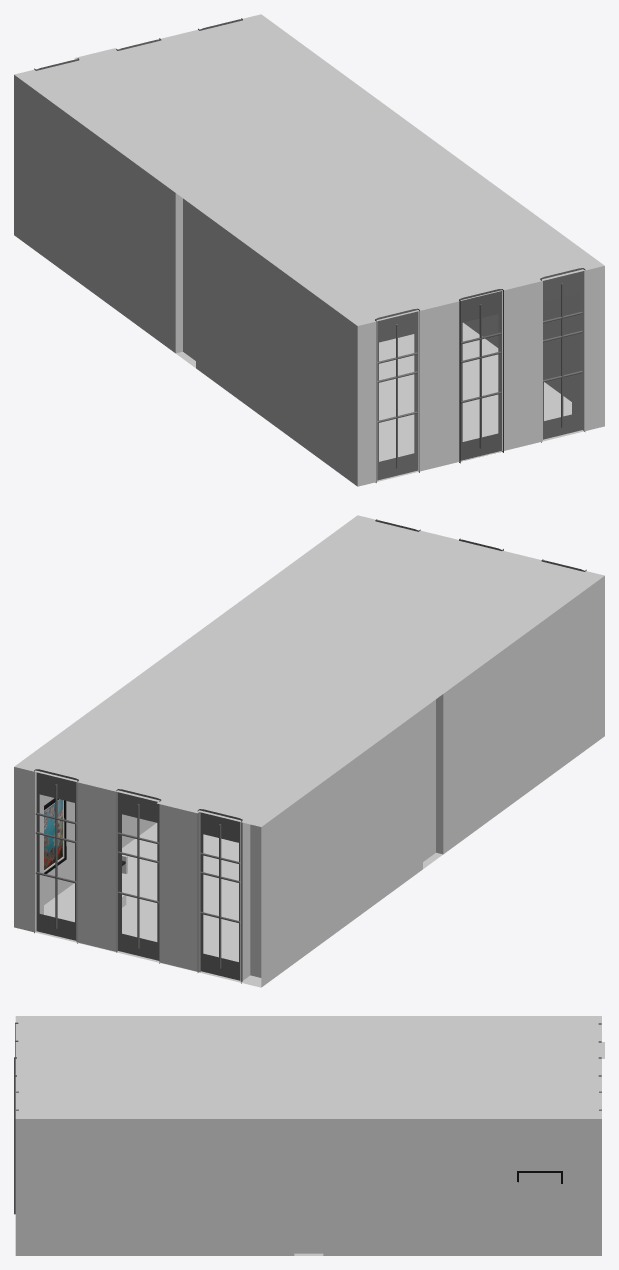
File: kunstmatrix01.glb
3 renders of one model, top to bottom at view 1: azimuth 30°, elevation 25°; view 2: azimuth 150°, elevation 25°; view 3: azimuth 270°, elevation 25°, orthographic. The views are drawn at different scales.
Visible parts, largest first — view 1: Cube, Cylinder.007, Cylinder.010, Cylinder.009; view 2: Cube, Cylinder.005, Cylinder.008, Cylinder.001, Plane.001; view 3: Cube.
Boxes of the visible parts, x1,y1,x2,y2 form: Cube: (14,14,604,486); Cylinder.007: (459,289,503,463); Cylinder.010: (375,308,419,482); Cylinder.009: (540,268,585,442); Cube: (14,515,604,987); Cylinder.005: (197,809,242,983); Cylinder.008: (116,789,161,963); Cylinder.001: (34,769,78,943); Plane.001: (44,798,66,873); Cube: (15,1016,604,1255).
Bounding box in the file's own units: 45.99 × 29.08 × 112.
13 materials, 1 textured.
